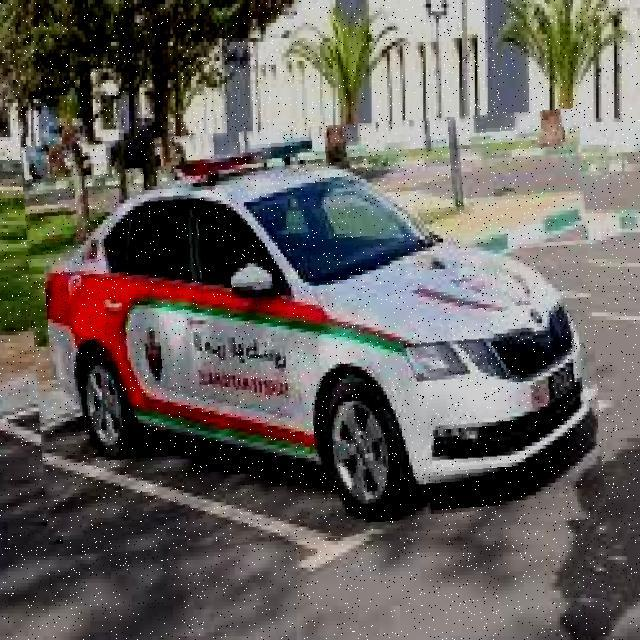police: (27, 118, 600, 548)
